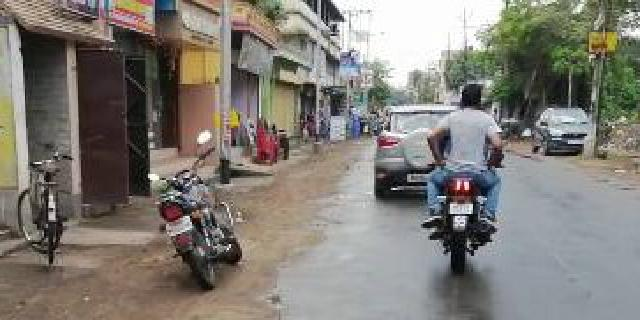Car: (371, 101, 459, 197), (532, 98, 596, 157)
Cycle: (12, 145, 80, 275)
Motorbike: (142, 134, 250, 308), (423, 88, 509, 289)
